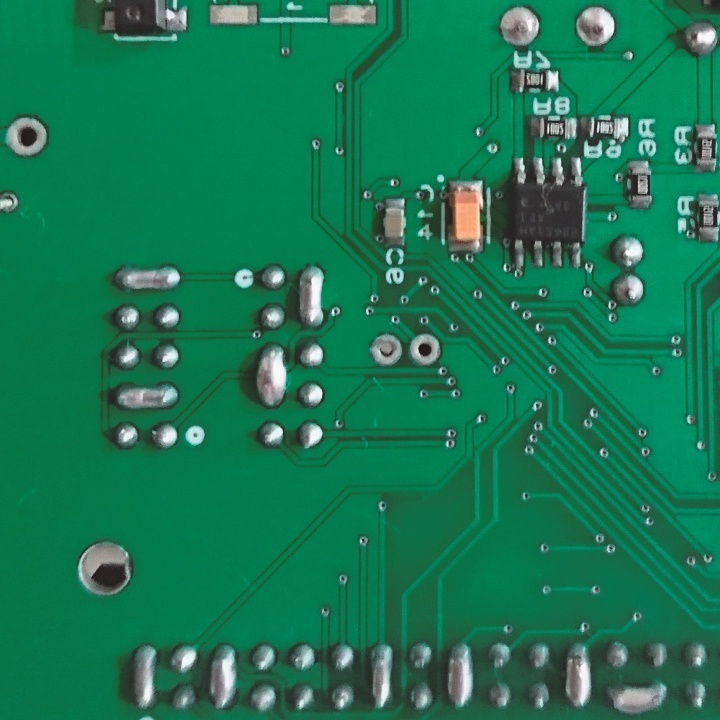F: (498, 4, 542, 52), (4, 114, 52, 158), (576, 6, 617, 53), (407, 331, 444, 368), (368, 329, 403, 367), (1, 188, 24, 218)
P: (253, 343, 290, 409), (607, 678, 668, 718), (561, 640, 594, 709), (112, 381, 181, 412), (366, 640, 395, 712), (112, 262, 181, 292), (129, 638, 157, 710), (298, 262, 327, 330), (445, 641, 474, 709), (210, 640, 238, 710)
